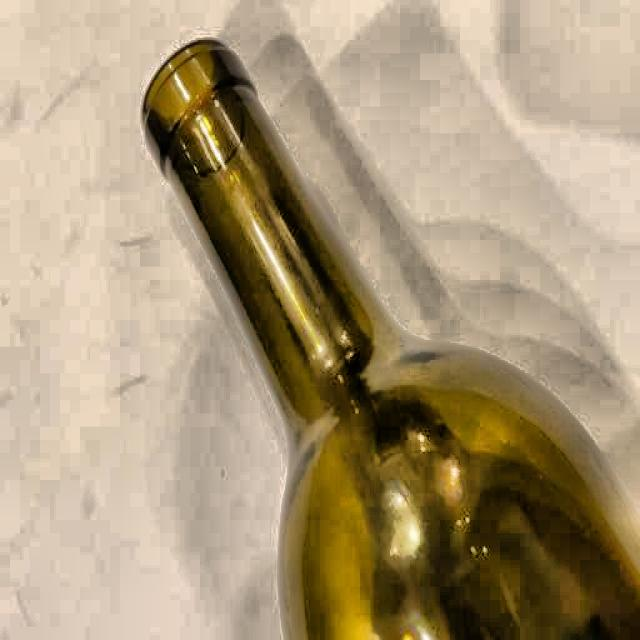glass: (137, 30, 640, 640)
